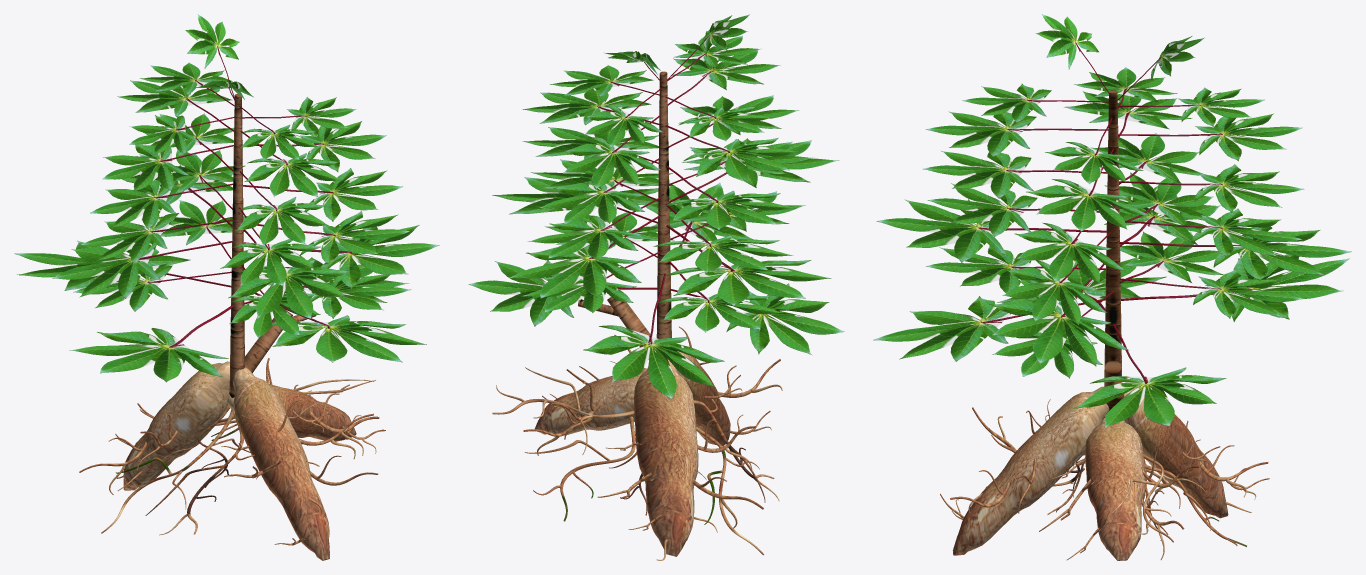
File: singkong.fbx
3 renders of one model, left to right at view 1: azimuth 30°, elevation 25°; view 2: azimuth 150°, elevation 25°; view 3: azimuth 270°, elevation 25°, orthographic. The views are drawn at different scales.
Visible parts, largest first — view 1: Cylinder; view 2: Cylinder; view 3: Cylinder.
Boxes of the visible parts, x1,y1,x2,y2 form: Cylinder: (14,14,439,560); Cylinder: (468,14,844,560); Cylinder: (873,14,1351,560).
Size of the model in its own units: 151 by 204 by 170.
2 materials, 2 textured.
